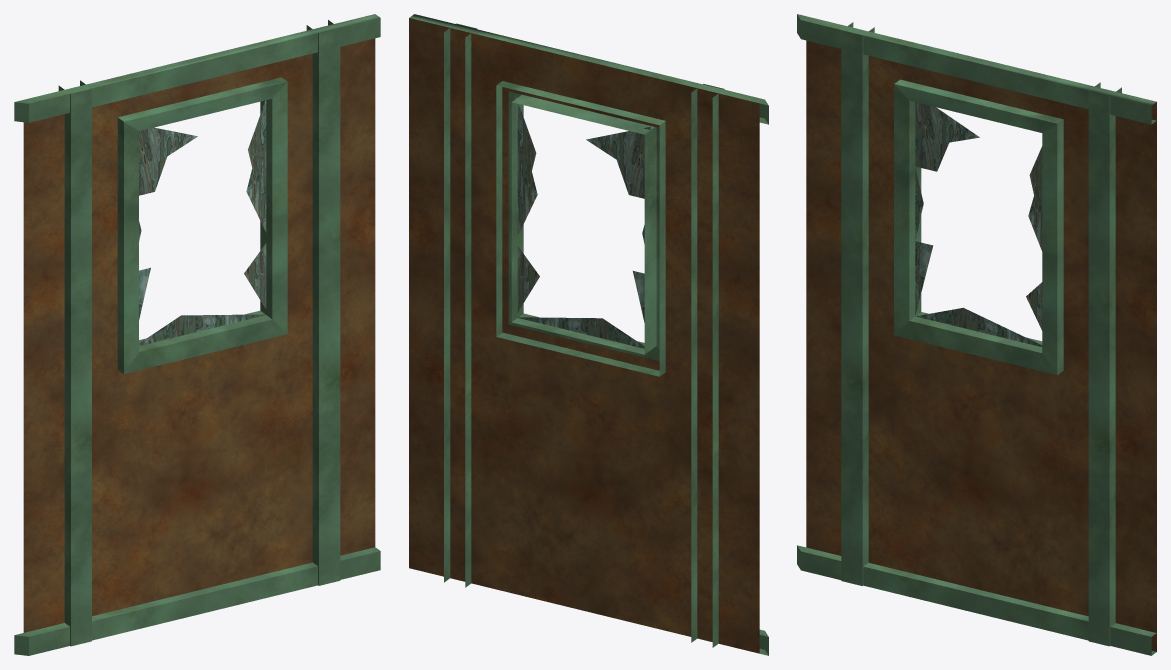
The model's file is Wall1_MidShip_Corner1.FBX.
3 renders of one model, left to right at view 1: azimuth 30°, elevation 25°; view 2: azimuth 150°, elevation 25°; view 3: azimuth 330°, elevation 25°, orthographic.
Parts seen in each view (by area): view 1: Plane014; view 2: Plane014; view 3: Plane014.
Boxes of the visible parts, x1,y1,x2,y2 form: Plane014: (14, 14, 380, 655); Plane014: (409, 14, 768, 655); Plane014: (797, 14, 1156, 655).
Size of the model in its own units: 205 by 300 by 12.01.
